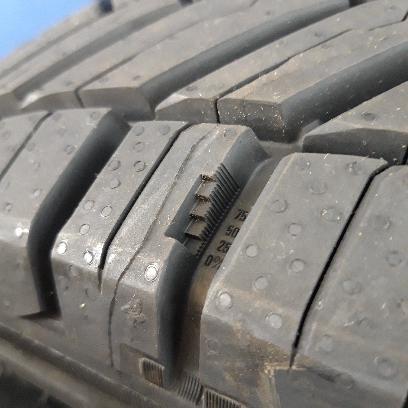temoin:100: (162, 161, 245, 268)
